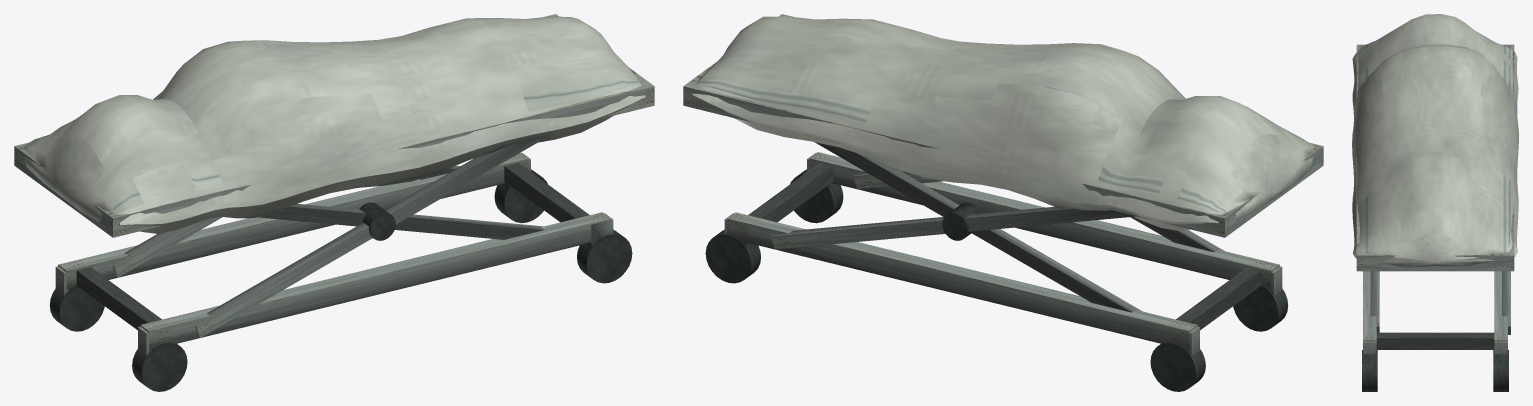
Rendered from covered_gurney.glb.
3 renders of one model, left to right at view 1: azimuth 30°, elevation 25°; view 2: azimuth 150°, elevation 25°; view 3: azimuth 270°, elevation 25°, orthographic. The views are drawn at different scales.
Parts seen in each view (by area): view 1: CoveredGurney; view 2: CoveredGurney; view 3: CoveredGurney.
Part boxes in pixels (x1,y1,x2,y2): CoveredGurney: [14, 14, 654, 391]; CoveredGurney: [683, 14, 1323, 391]; CoveredGurney: [1352, 14, 1518, 391].
Bounding box in the file's own units: 1.93 × 0.9052 × 0.6355.
1 material, 1 textured.
